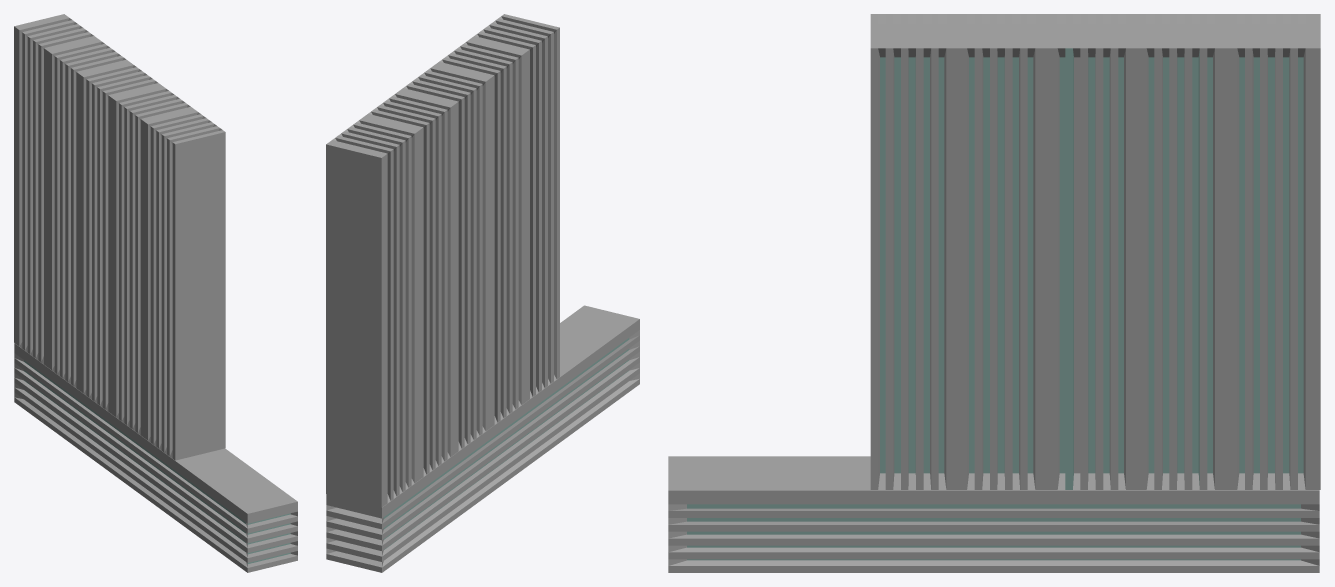
Rendered from Simple apartment building 2.fbx.
3 renders of one model, left to right at view 1: azimuth 30°, elevation 25°; view 2: azimuth 150°, elevation 25°; view 3: azimuth 270°, elevation 25°, orthographic. The views are drawn at different scales.
Parts seen in each view (by area): view 1: pCube559; view 2: pCube559; view 3: pCube559.
Boxes of the visible parts, <box> form: pCube559: <box>14,14,297,572</box>; pCube559: <box>326,14,639,572</box>; pCube559: <box>668,14,1320,572</box>.
Size of the model in its own units: 25.12 by 179 by 202.
